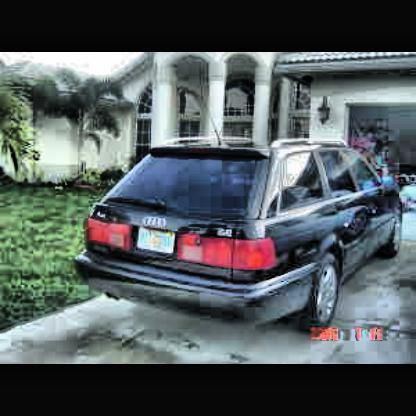Audi 100 Wagon 1994: (77, 120, 408, 337)
